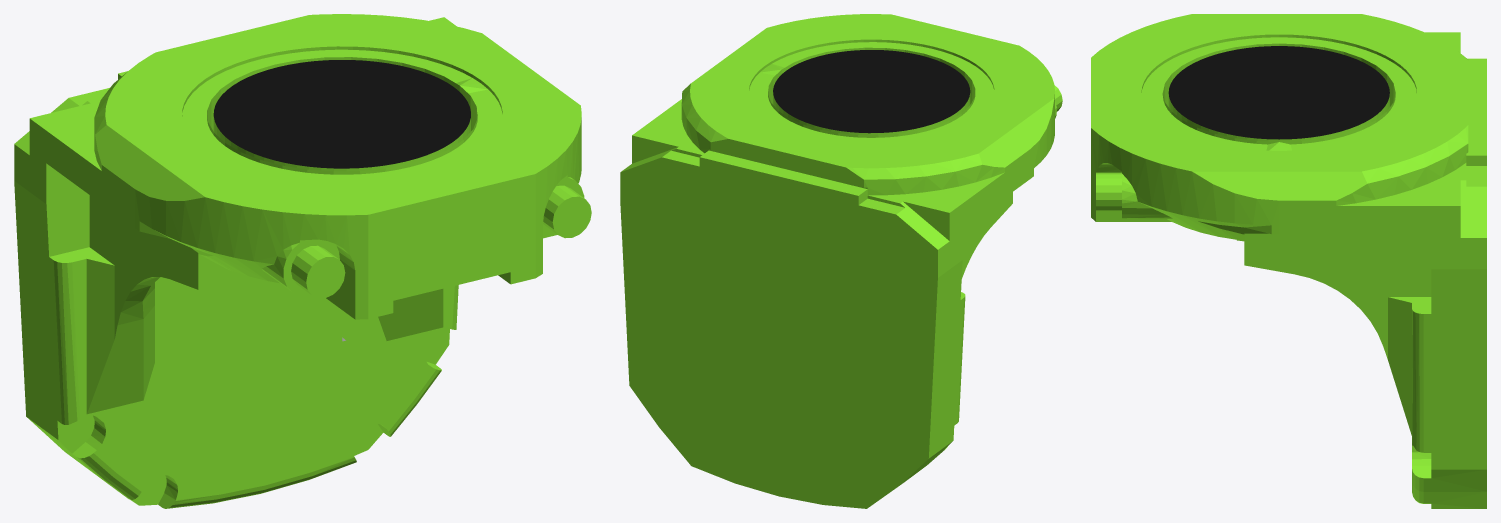
3 renders of one model, left to right at view 1: azimuth 30°, elevation 25°; view 2: azimuth 150°, elevation 25°; view 3: azimuth 270°, elevation 25°, orthographic. The views are drawn at different scales.
Visible parts, largest first — view 1: node; view 2: node; view 3: node.
Part boxes in pixels (left/top/right/bottom): node: left=14, top=14, right=591, bottom=508; node: left=620, top=14, right=1062, bottom=508; node: left=1091, top=14, right=1486, bottom=508.
Bounding box in the file's own units: 106 × 108 × 102.
